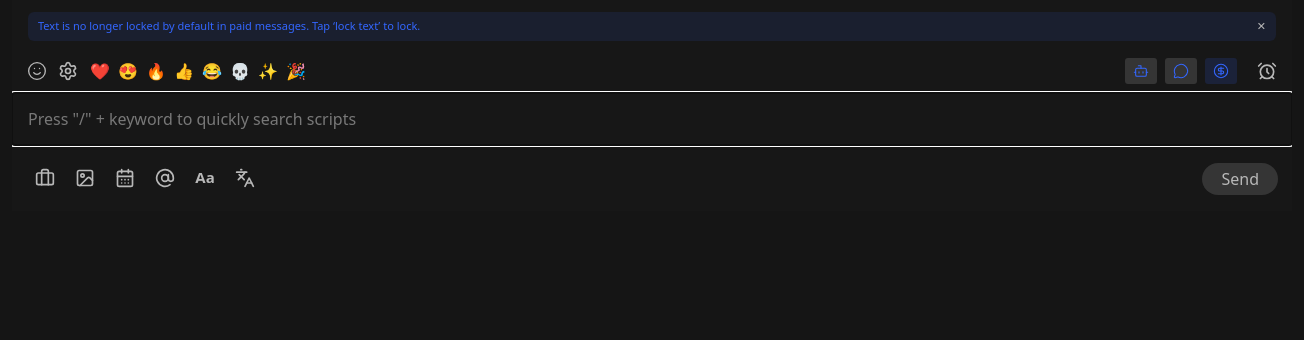
Test: Composer toolbar: "Scripts" › two templates at the next step show one chip each, by title; tapping one loads that one (4.16)
Click the button named "Scripts": x=1181, y=70 [1165, 58, 1197, 84]
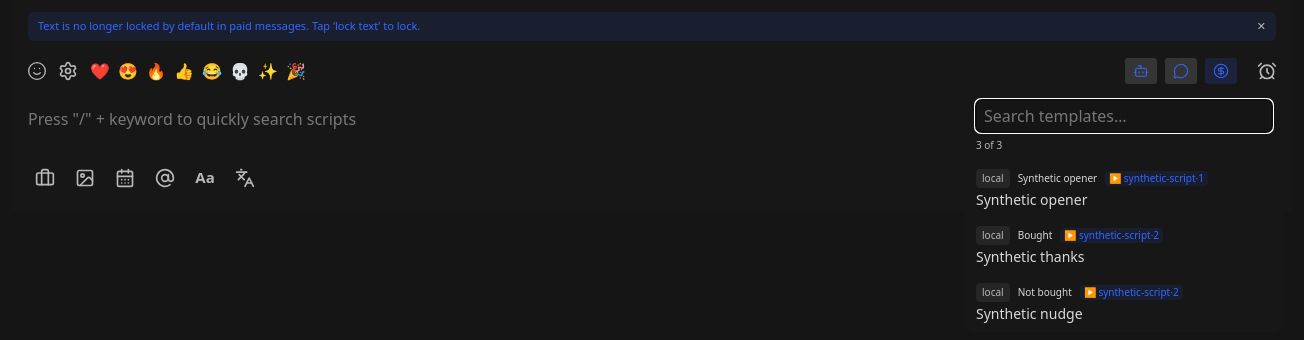
Click the button "local Synthetic opener ▶ synthetic-script·1 Synthetic opener": x=993, y=178 [964, 160, 1284, 218]
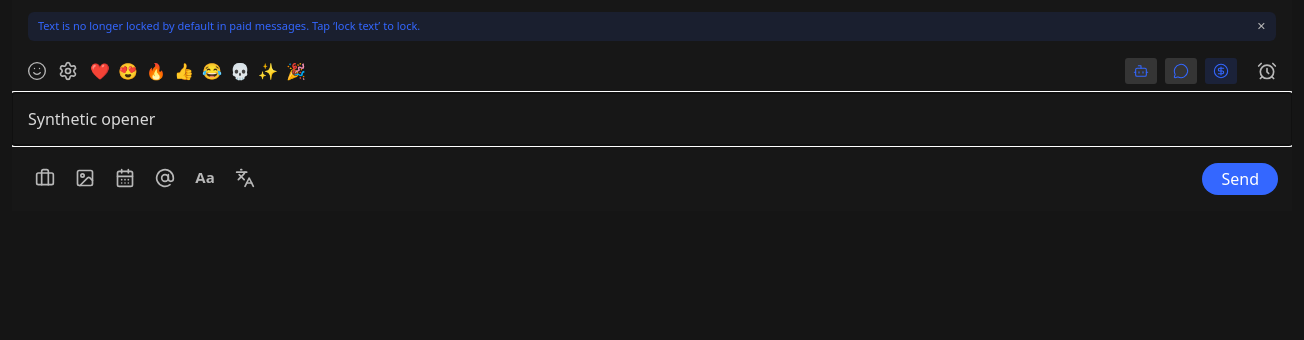
Click the button "Send": x=1240, y=178 [1202, 162, 1278, 194]
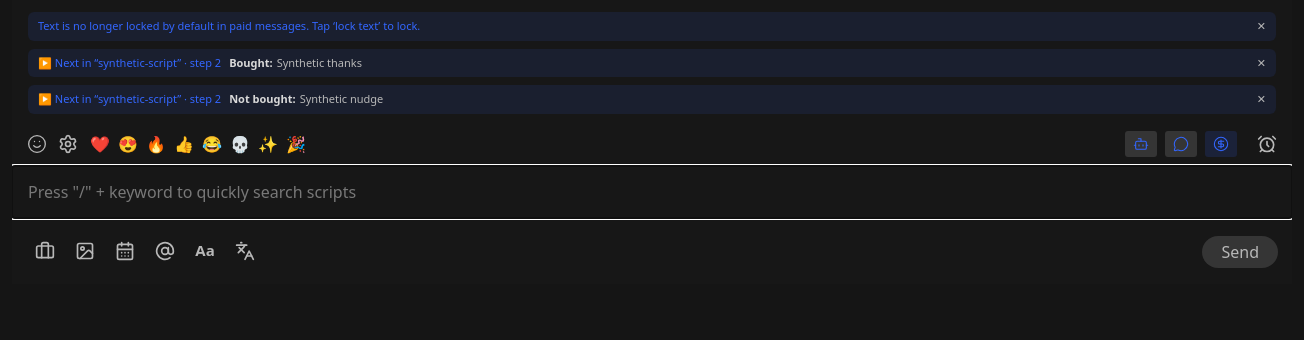
Expected: the text "▶ Next in “synthetic-script” · step 2" is shown 2 times, [38, 54, 221, 71]; [38, 91, 221, 108]
Expected: the text "Bought:" is shown, [229, 54, 273, 70]
Click the text "Not bought:": x=262, y=98 [229, 91, 296, 106]
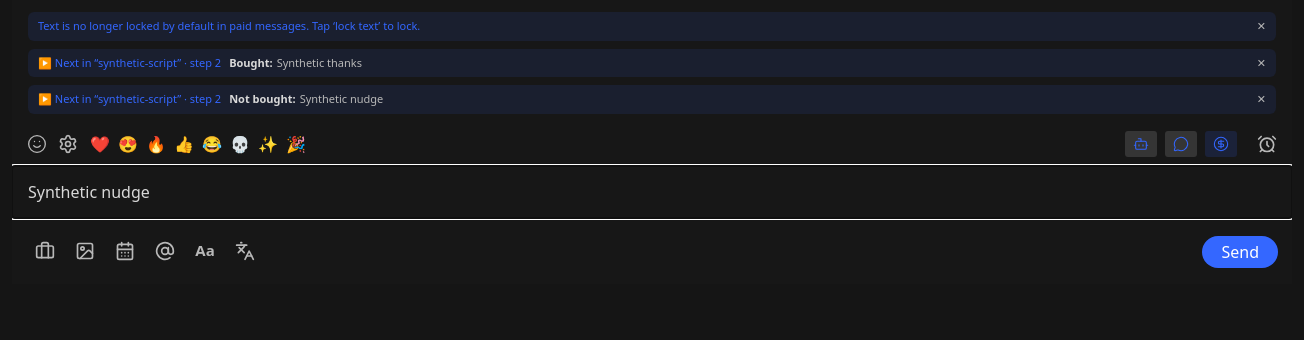
Expected: the text box with placeholder "Press \"/\" + keyword to quickly search scripts" holds "Synthetic nudge", [12, 166, 1292, 218]
